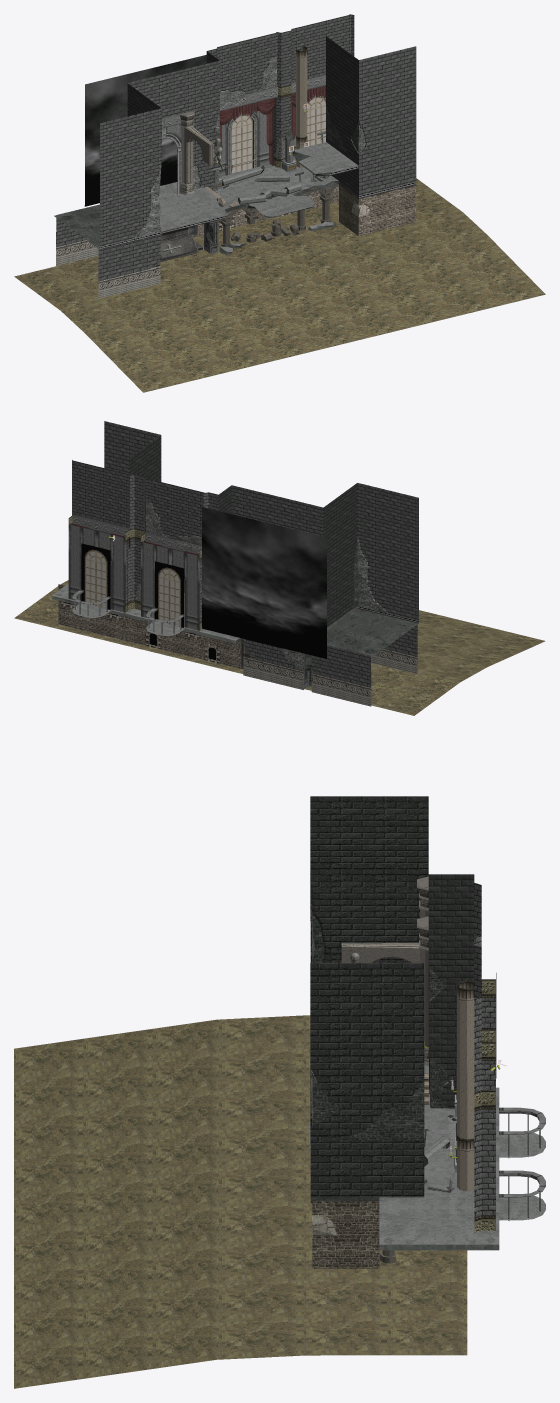
File: Dracula's Castle.obj
The picture shows the model from 3 angles, top to bottom: view 1: azimuth 30°, elevation 25°; view 2: azimuth 150°, elevation 25°; view 3: azimuth 270°, elevation 25°; orthographic projection. The views are drawn at different scales.
Parts seen in each view (by area): view 1: Inst3D_RefRep.340; view 2: Inst3D_RefRep.340; view 3: Inst3D_RefRep.340.
Part boxes in pixels (left/top/right/bottom): Inst3D_RefRep.340: left=14, top=14, right=545, bottom=392; Inst3D_RefRep.340: left=14, top=421, right=545, bottom=715; Inst3D_RefRep.340: left=14, top=796, right=545, bottom=1388.
Size of the model in its own units: 4.12 by 1.91 by 2.71.
Materials: 27 (27 with a texture image).
